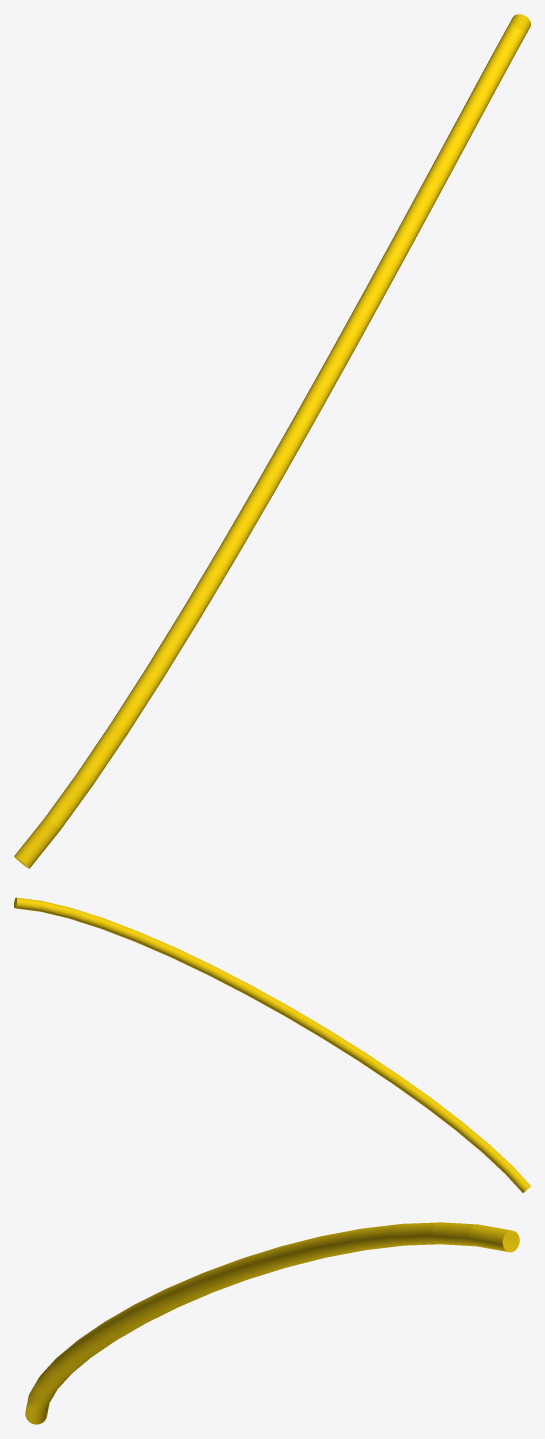
Rendered from Event_421115418_track_69.fbx.
3 views of the same model, one above another, from view 1: azimuth 30°, elevation 25°; view 2: azimuth 150°, elevation 25°; view 3: azimuth 270°, elevation 25° (orthographic). The views are drawn at different scales.
Visible parts, largest first — view 1: Model; view 2: Model; view 3: Model.
Part boxes in pixels (x1,y1,x2,y2): Model: [14, 14, 530, 868]; Model: [14, 897, 530, 1192]; Model: [25, 1222, 519, 1424].
Bounding box in the file's own units: 1.68 × 1.15 × 0.8996.
